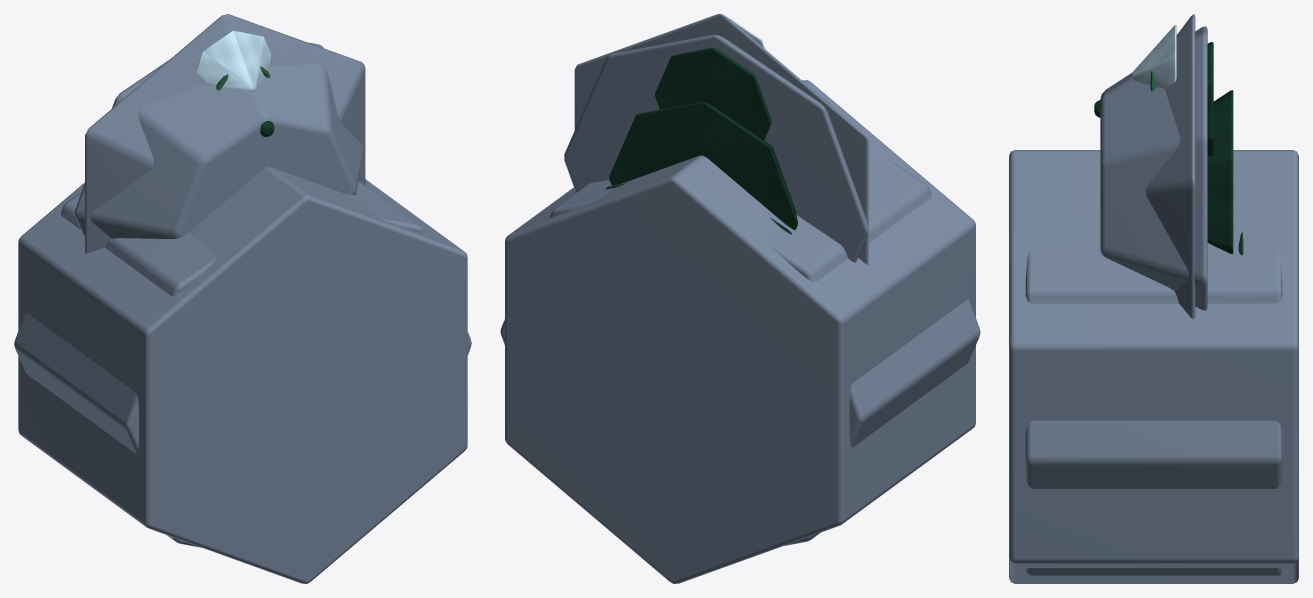
File: resource_tree.glb
3 renders of one model, left to right at view 1: azimuth 30°, elevation 25°; view 2: azimuth 150°, elevation 25°; view 3: azimuth 270°, elevation 25°, orthographic. The views are drawn at different scales.
Parts seen in each view (by area): view 1: LOD2_PROXY_base, LOD1_PROXY_cap, LOD2_PROXY_cap, LOD1_PROXY_base, resource_snow2; view 2: LOD2_PROXY_base, LOD1_PROXY_cap, LOD1_PROXY_base, resource_canopy1, LOD2_PROXY_cap, resource_canopy2; view 3: LOD2_PROXY_base, LOD1_PROXY_base, LOD1_PROXY_cap, LOD2_PROXY_cap, resource_canopy1, resource_snow2, resource_canopy2.
Boxes of the visible parts, x1,y1,x2,y2 form: LOD2_PROXY_base: [18, 167, 467, 583]; LOD1_PROXY_cap: [75, 42, 364, 238]; LOD2_PROXY_cap: [85, 14, 365, 253]; LOD1_PROXY_base: [14, 181, 471, 547]; resource_snow2: [196, 30, 270, 91]; LOD2_PROXY_base: [505, 80, 975, 583]; LOD1_PROXY_cap: [564, 34, 868, 262]; LOD1_PROXY_base: [500, 155, 980, 545]; resource_canopy1: [609, 101, 797, 230]; LOD2_PROXY_cap: [574, 14, 868, 265]; resource_canopy2: [655, 48, 771, 140]; LOD2_PROXY_base: [1009, 150, 1298, 583]; LOD1_PROXY_base: [1025, 245, 1282, 576]; LOD1_PROXY_cap: [1100, 26, 1207, 310]; LOD2_PROXY_cap: [1146, 14, 1195, 319]; resource_canopy1: [1207, 90, 1233, 253]; resource_snow2: [1131, 25, 1176, 88]; resource_canopy2: [1094, 42, 1213, 155].
Bounding box in the file's own units: 2.69 × 3.79 × 1.75.
8 materials, 7 textured.
